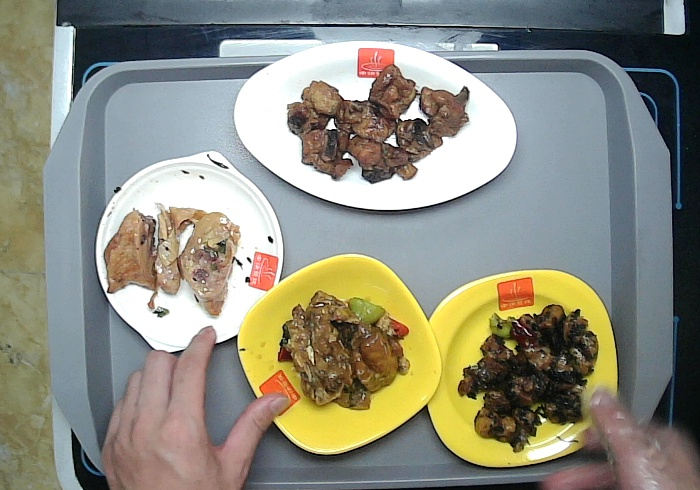SHKJ-Bao_Yu_Pan: (94, 151, 283, 353)
SHKJ-Huang_Se_Cai_Die: (237, 253, 443, 454)
SHKJ-Huang_Se_Si_Fang_Cai_Die: (424, 269, 618, 467)
SHKJ-Yu_Pan: (233, 41, 517, 210)
